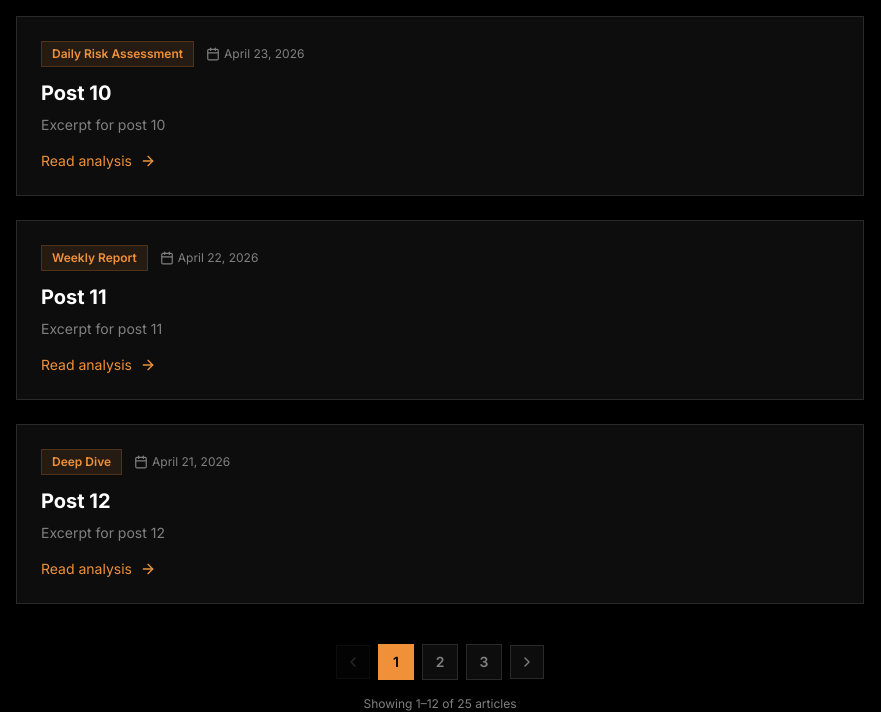
Test: BlogList › should navigate to page 2
(page scrolled)
Click the button "2": (440, 662) [422,644,458,680]
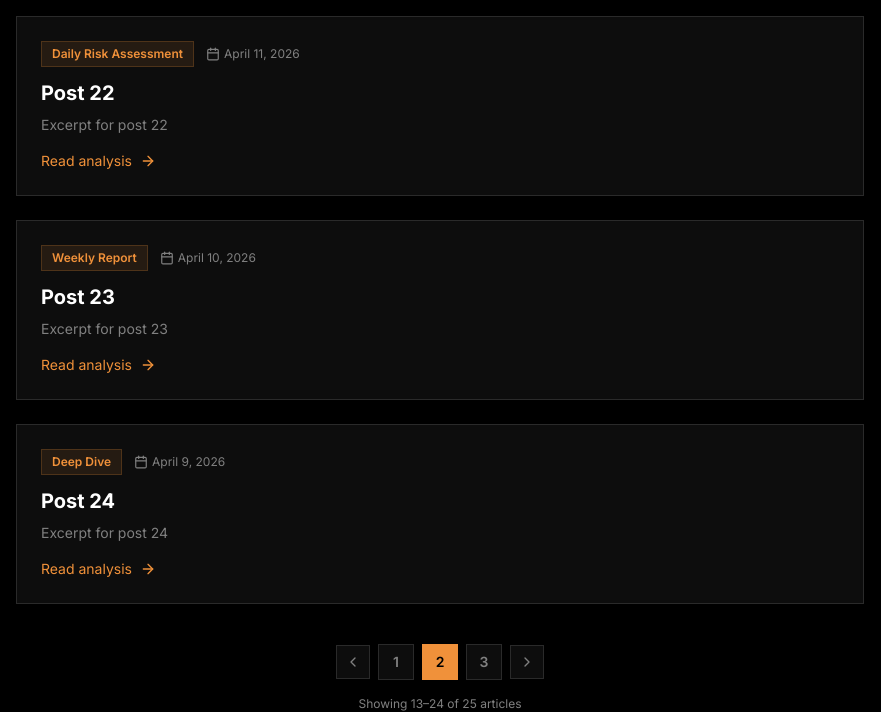
Result: the text "Showing 13–24 of 25 articles" is shown at [358,696,522,711]
